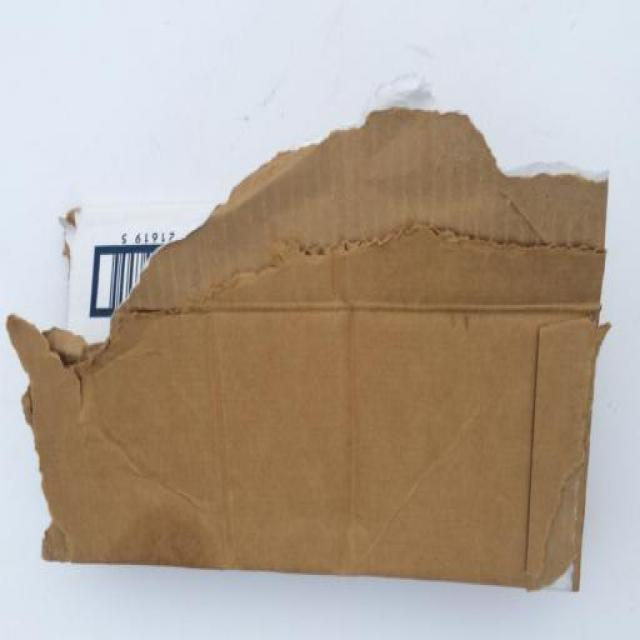cardboard: (55, 164, 598, 585)
